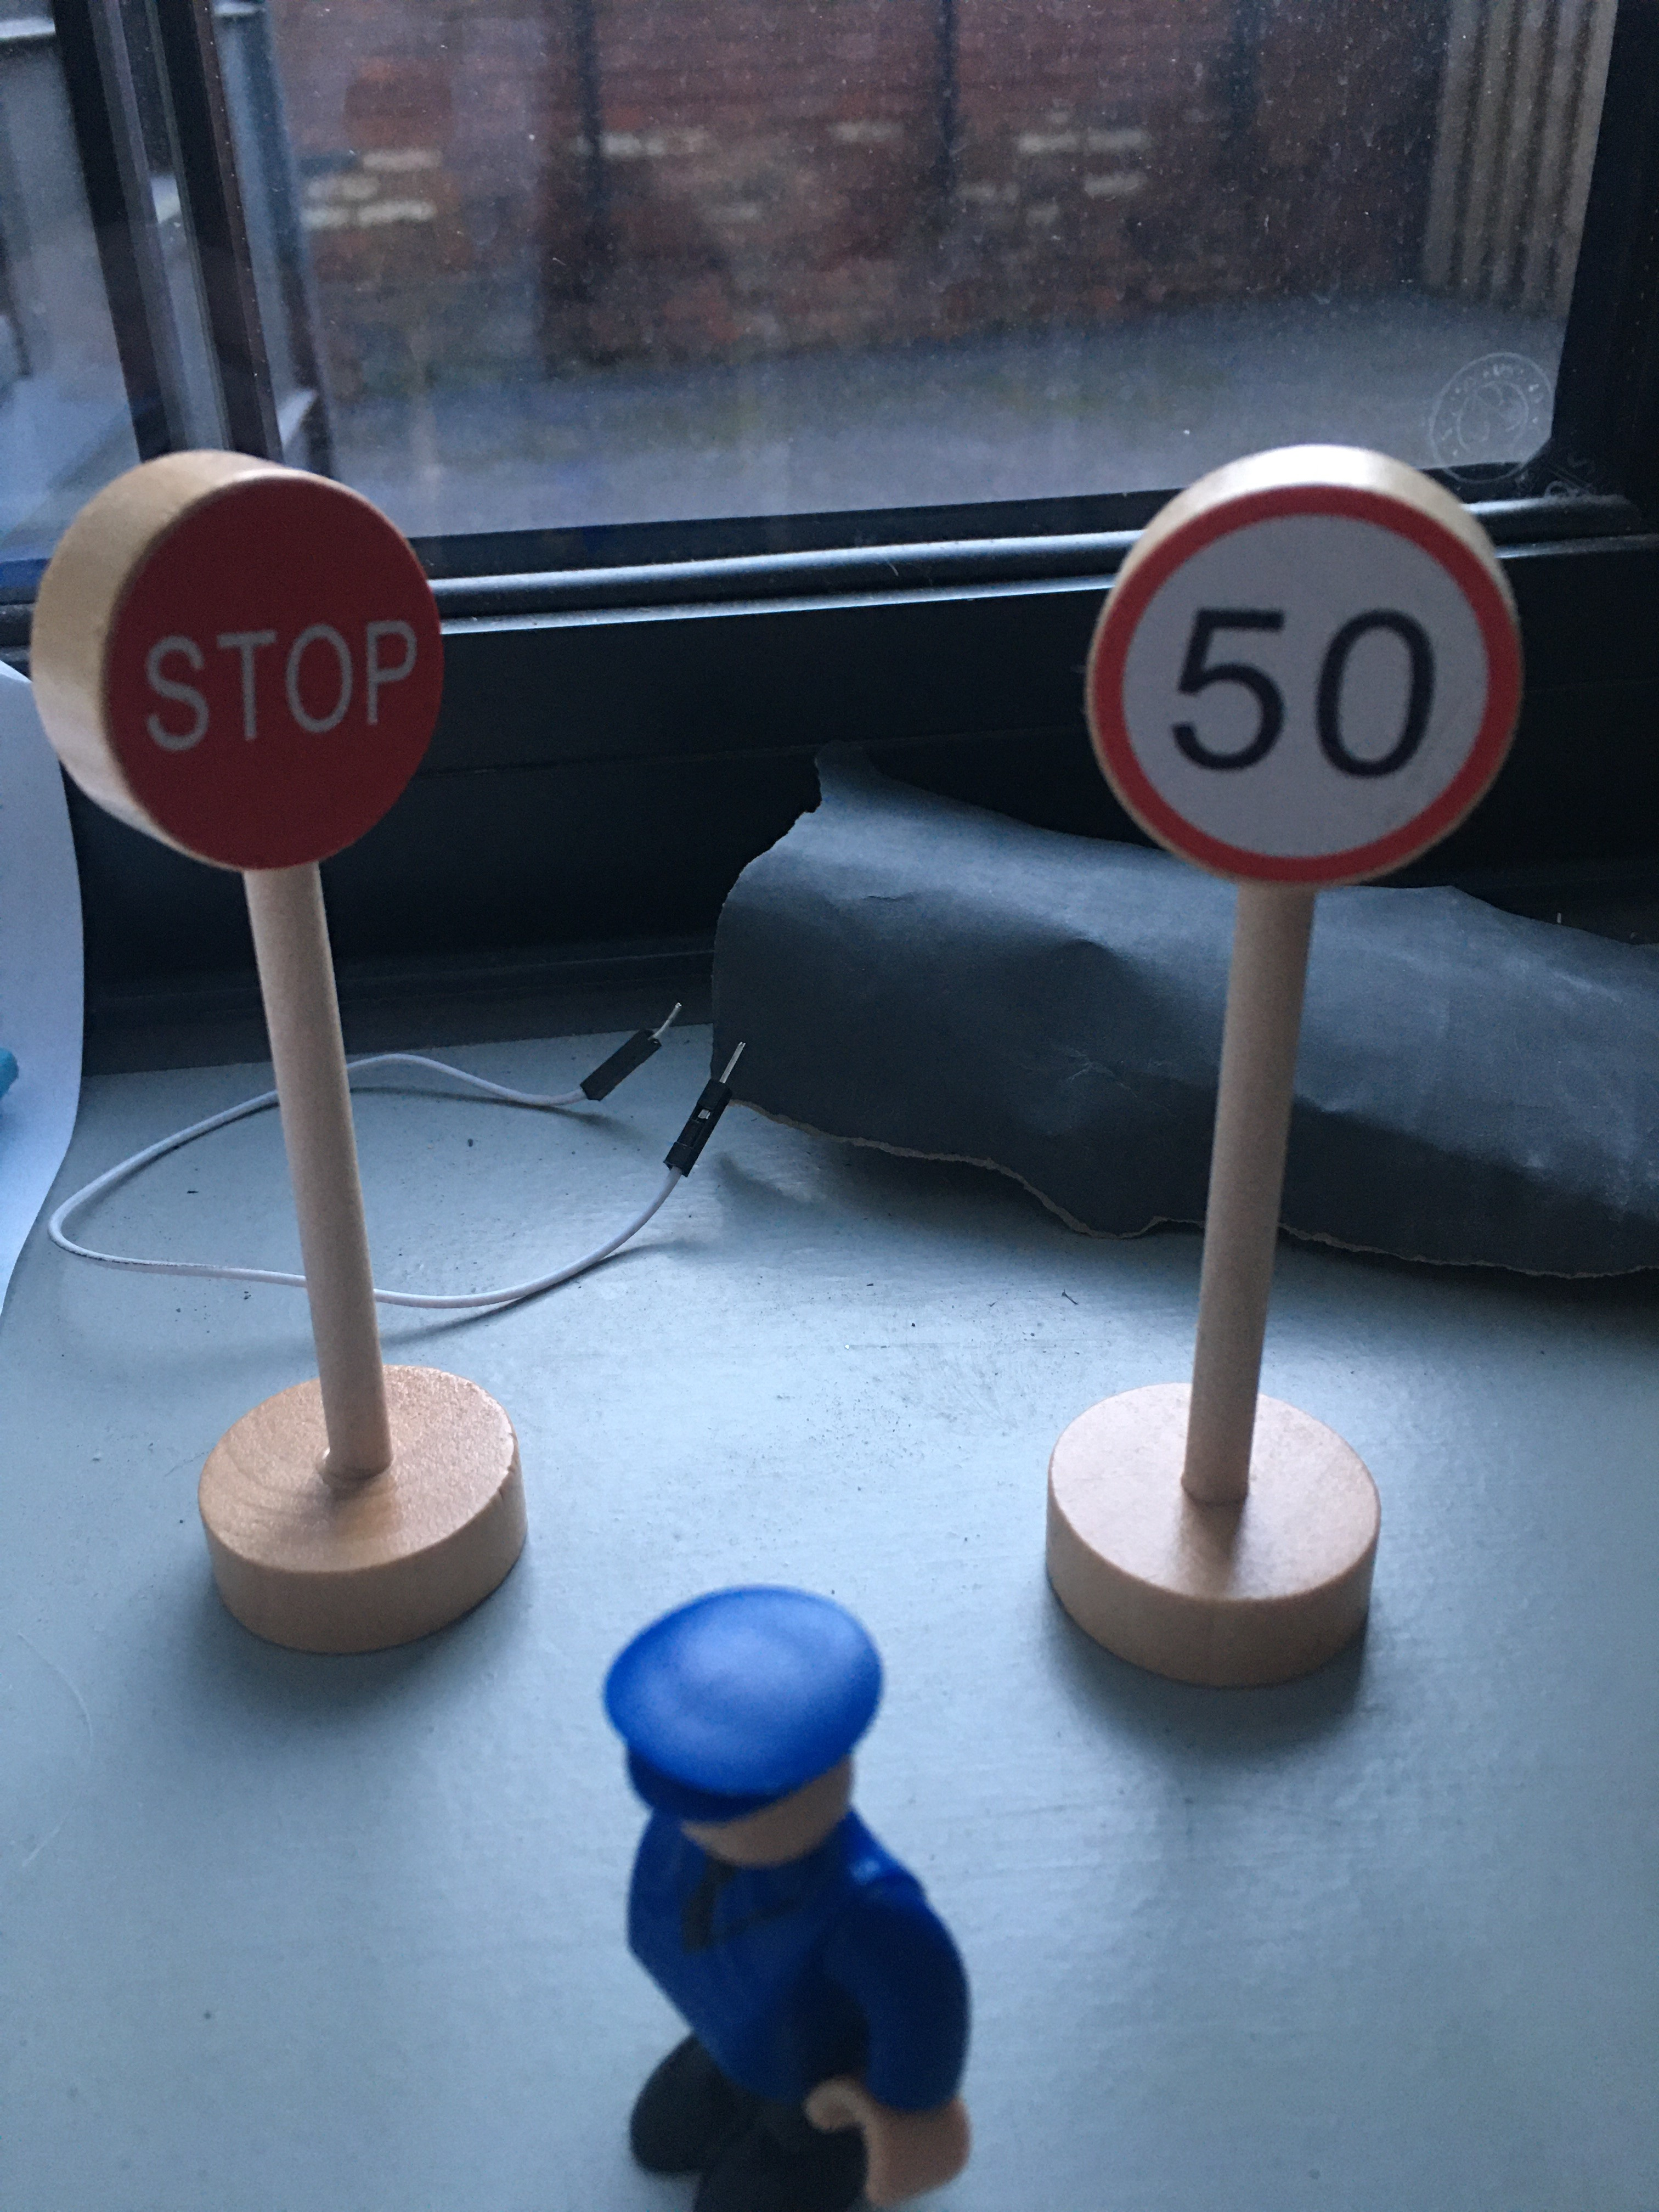Traffic_Sign_50: (1090, 487, 1516, 888)
Traffic_Sign_Stop: (104, 480, 443, 871)
person: (593, 1582, 986, 2212)
